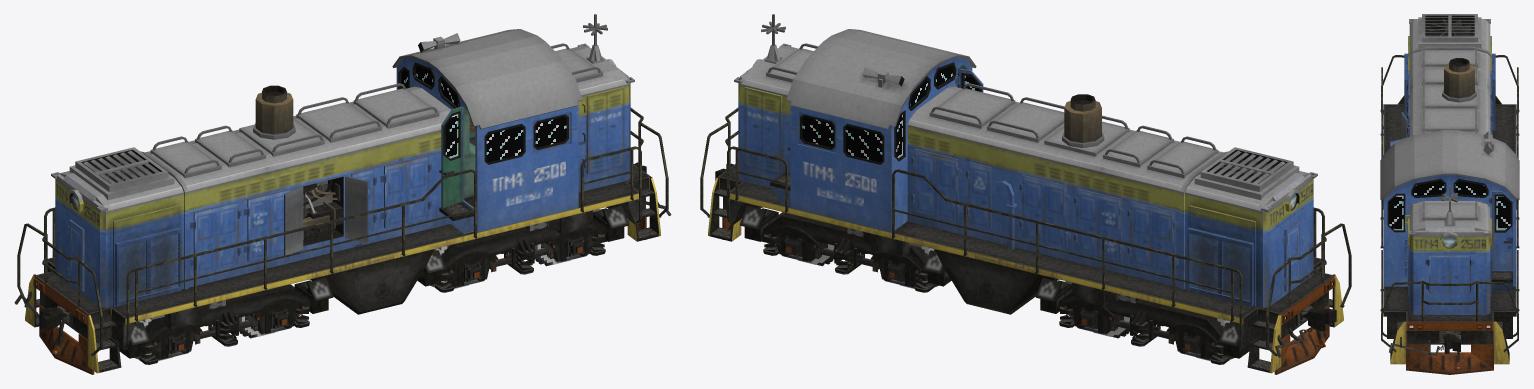
Rendered from mvp_ir_tgm4.obj.
The picture shows the model from 3 angles, left to right: view 1: azimuth 30°, elevation 25°; view 2: azimuth 150°, elevation 25°; view 3: azimuth 270°, elevation 25°; orthographic projection. The views are drawn at different scales.
Visible parts, largest first — view 1: SHELL_tgm4, FRAME_tgm4, BOGEY_REAR_tgm4, BOGEY_FRONT_tgm4; view 2: SHELL_tgm4, FRAME_tgm4, BOGEY_FRONT_tgm4, BOGEY_REAR_tgm4; view 3: SHELL_tgm4, FRAME_tgm4.
Part boxes in pixels (x1,y1,x2,y2): SHELL_tgm4: (51,14,634,307); FRAME_tgm4: (14,107,671,374); BOGEY_REAR_tgm4: (417,205,629,292); BOGEY_FRONT_tgm4: (119,278,333,364); SHELL_tgm4: (734,14,1317,307); FRAME_tgm4: (700,107,1351,374); BOGEY_FRONT_tgm4: (1035,278,1249,364); BOGEY_REAR_tgm4: (739,205,951,292); SHELL_tgm4: (1380,14,1519,314); FRAME_tgm4: (1380,55,1519,374).
Bounding box in the file's own units: 14.43 × 5.07 × 3.47.
2 materials, 2 textured.
